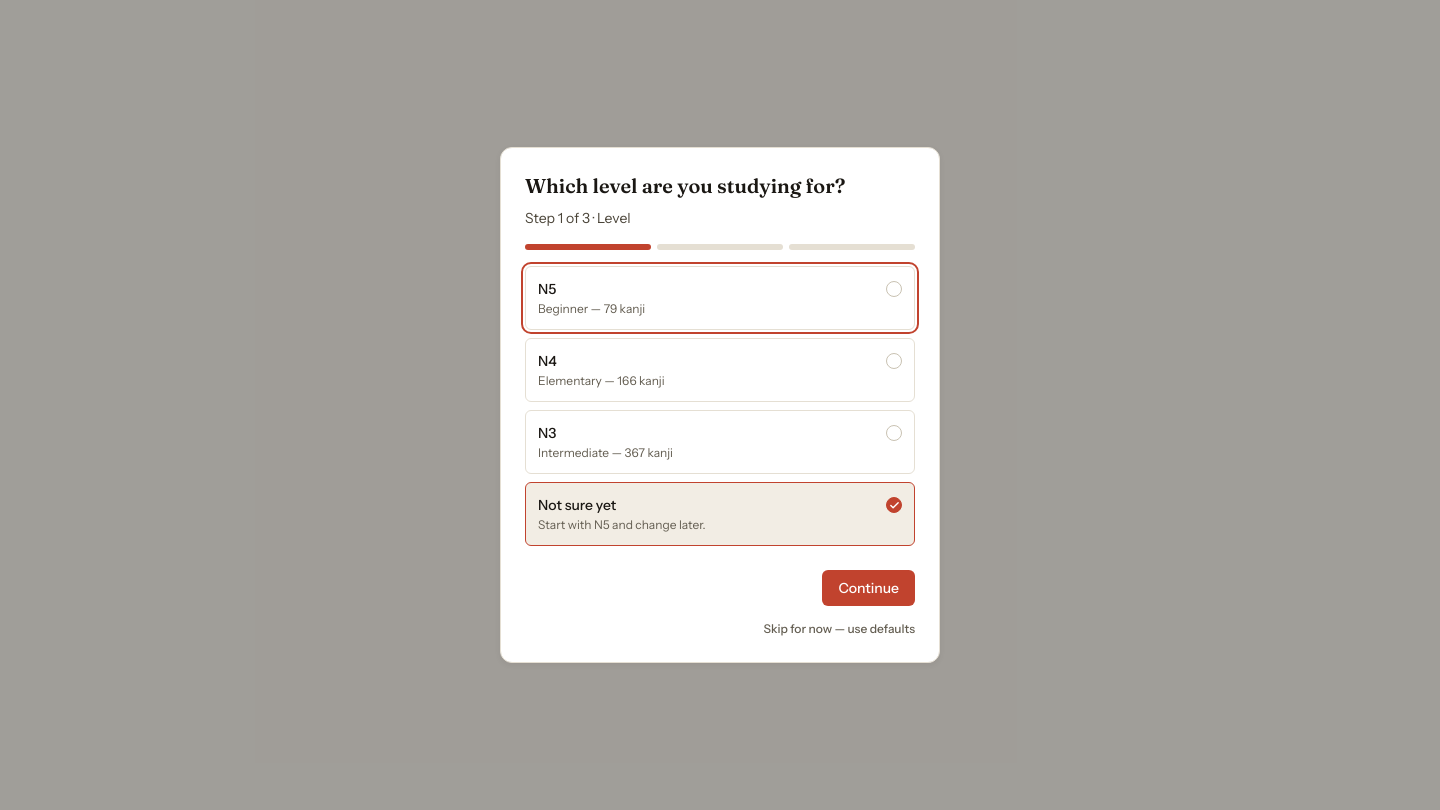
Test: Onboarding modal (§6.1 / D20) › shows an error and stays open when the request fails
Click the button "Skip for now — use defaults" at {"x": 839, "y": 629}, box [764,621,915,637]
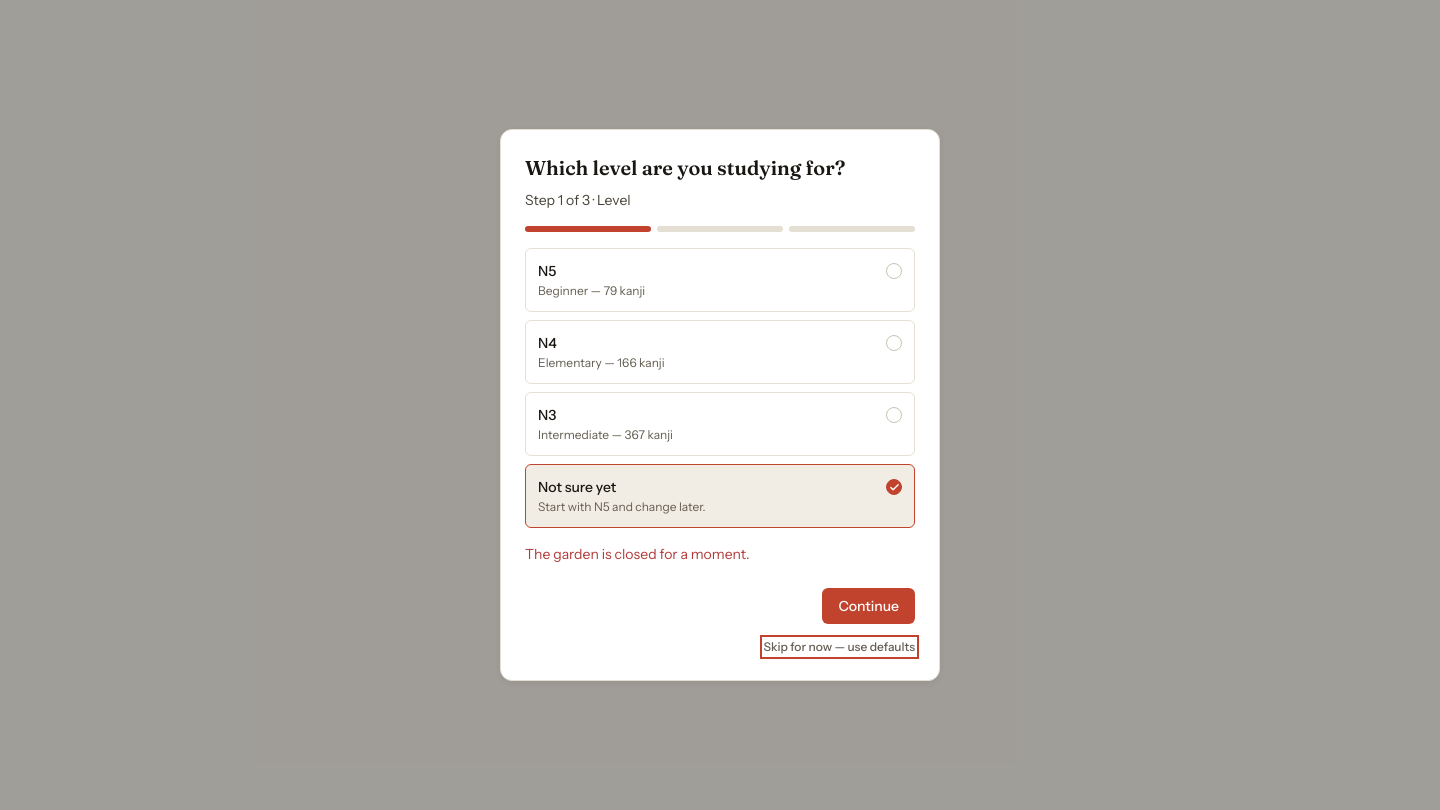
Expected: the text "Step 1 of 3 · Level" is shown, [525,191,631,209]
Expected: the message reads "The garden is closed for a moment.", [525,545,750,563]
